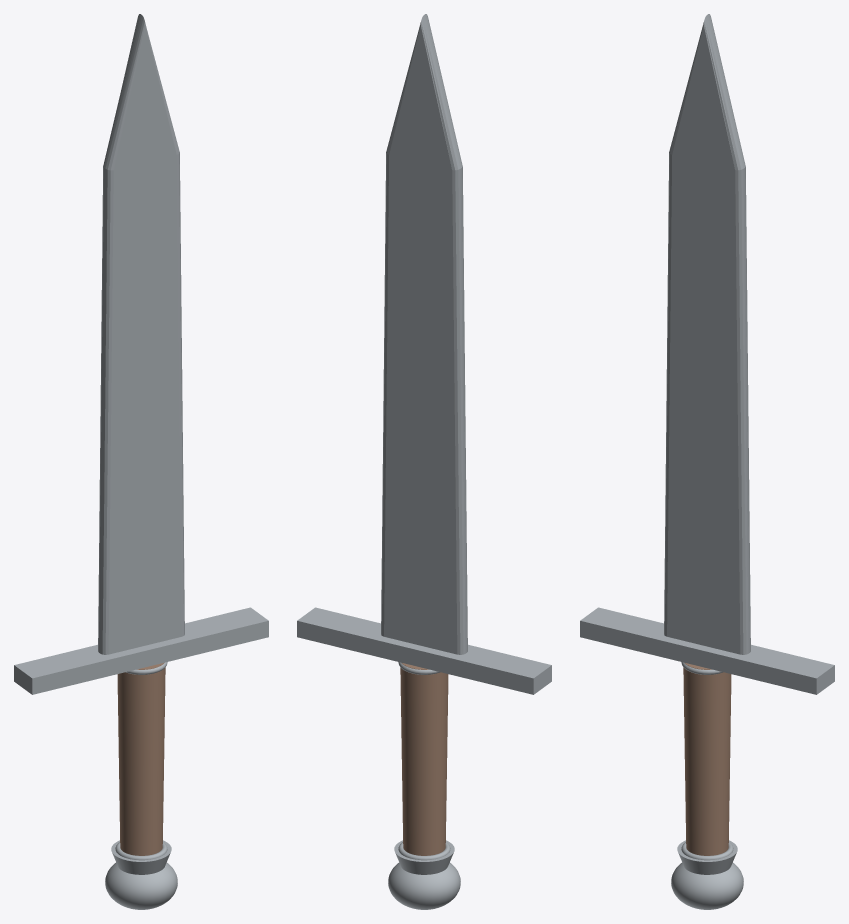
The model's file is sword_3d.glb.
3 views of the same model, side by side, from view 1: azimuth 30°, elevation 25°; view 2: azimuth 150°, elevation 25°; view 3: azimuth 330°, elevation 25° (orthographic).
Bounding box in the file's own units: 4.5 × 16.19 × 1.2.
